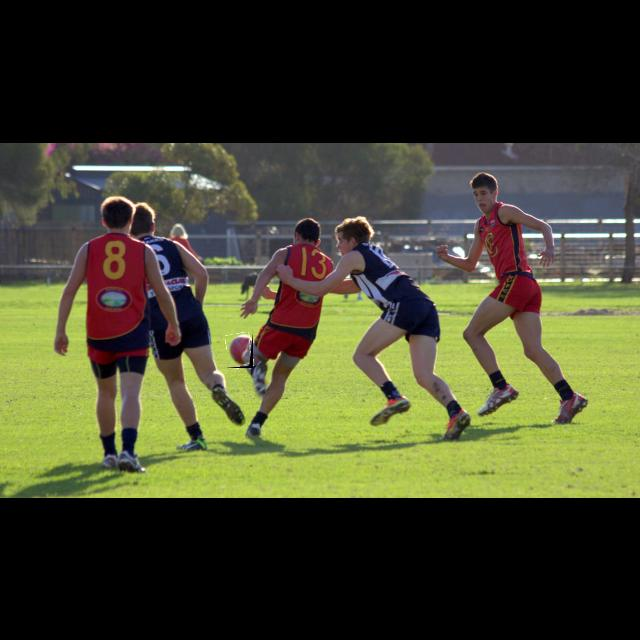Football: (227, 334, 253, 368)
